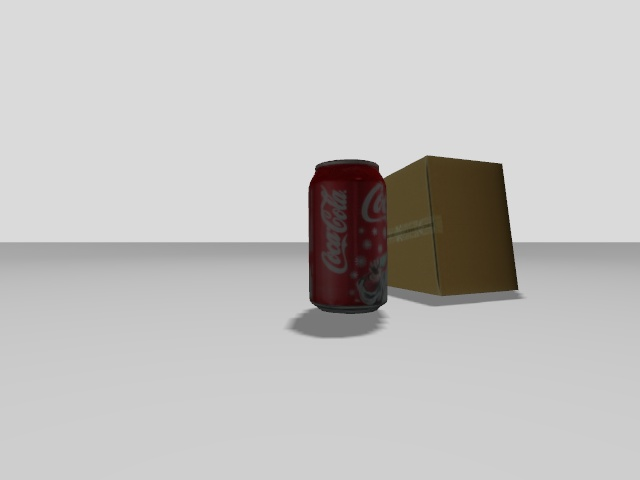canette: (309, 159, 387, 314)
carton: (384, 155, 517, 297)
